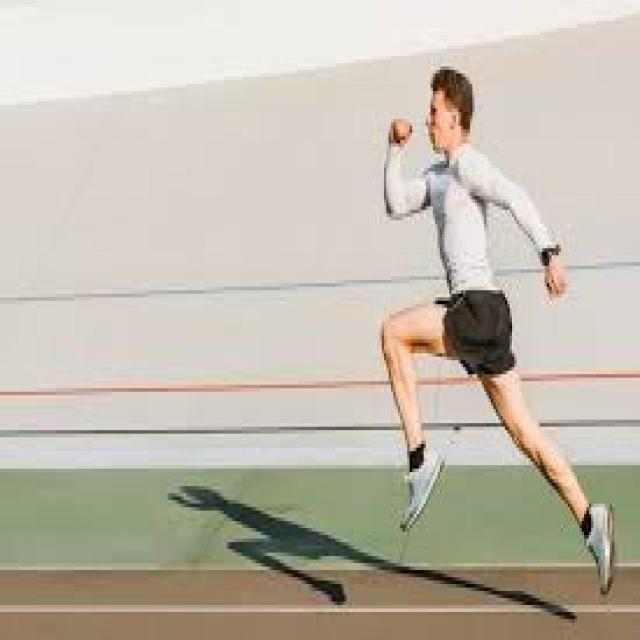running: (377, 66, 616, 596)
